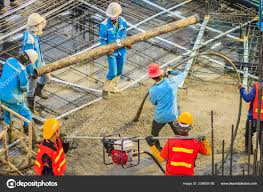helmet: (42, 119, 60, 138), (175, 111, 193, 128), (29, 14, 44, 32), (148, 63, 163, 79), (107, 2, 121, 17), (27, 47, 39, 63)
vest: (35, 144, 69, 177), (169, 139, 199, 175), (251, 84, 263, 120)
